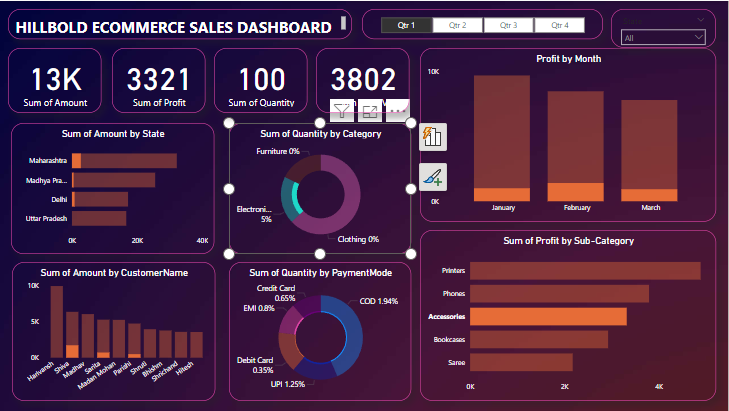

This screenshot's page, from the dashboard's own definition file:
{"tool":"powerbi","page":{"name":"Page 1","canvas":[1280,720],"ordinal":0},"visuals":[{"type":"textbox","box":[15.8,14,604,52.7],"z":0},{"type":"columnChart","title":" Profit by Month","fields":{"Category":["Orders.Order Date.Variation.Date Hierarchy.Month"],"Y":["Details.Profit"]},"box":[740,81.7,520,305],"z":1000},{"type":"barChart","fields":{"Category":["Details.Sub-Category"],"Y":["Details.Profit"]},"box":[740,401.7,520,300],"z":2000},{"type":"donutChart","fields":{"Category":["Details.Category"],"Y":["Details.Quantity"]},"box":[404,214,320,230],"z":3000},{"type":"donutChart","fields":{"Y":["Details.Quantity"],"Category":["Details.PaymentMode"]},"box":[404,458,320,244],"z":4000},{"type":"card","fields":{"Values":["Details.Amount"]},"box":[16,82,164,114],"z":5000},{"type":"card","fields":{"Values":["Details.Profit"]},"box":[198,82,164,114],"z":6000},{"type":"card","fields":{"Values":["Details.Quantity"]},"box":[378,82,164,114],"z":7000},{"type":"card","fields":{"Values":["Details.AOV"]},"box":[556,82,164,114],"z":8000},{"type":"barChart","fields":{"Category":["Orders.State"],"Y":["Details.Amount"]},"box":[21.7,213.3,356.7,230],"z":8001},{"type":"columnChart","fields":{"Category":["Orders.CustomerName"],"Y":["Details.Amount"]},"box":[22,458,357,244],"z":8002},{"type":"slicer","fields":{"Values":["Orders.State"]},"box":[1074.6,14,184.4,68.5],"z":8004},{"type":"slicer","fields":{"Values":["Orders.Order Date.Variation.Date Hierarchy.Quarter"]},"box":[637.4,14,423.2,52.7],"z":8005}]}

Visuals, with their boxes in screenshot pixels (x1, y1, x2, y2), scaled from the page's 1280x720 canvas onto the 729x411 screenshot:
textbox: bbox=(9, 8, 353, 38)
" Profit by Month" columnChart: bbox=(421, 47, 718, 221)
barChart - Details.Sub-Category x Details.Profit: bbox=(421, 229, 718, 401)
donutChart - Details.Category x Details.Quantity: bbox=(230, 122, 412, 253)
donutChart - Details.Quantity x Details.PaymentMode: bbox=(230, 261, 412, 401)
card - Details.Amount: bbox=(9, 47, 103, 112)
card - Details.Profit: bbox=(113, 47, 206, 112)
card - Details.Quantity: bbox=(215, 47, 309, 112)
card - Details.AOV: bbox=(317, 47, 410, 112)
barChart - Orders.State x Details.Amount: bbox=(12, 122, 216, 253)
columnChart - Orders.CustomerName x Details.Amount: bbox=(13, 261, 216, 401)
slicer - Orders.State: bbox=(612, 8, 717, 47)
slicer - Orders.Order Date.Variation.Date Hierarchy.Quarter: bbox=(363, 8, 604, 38)
